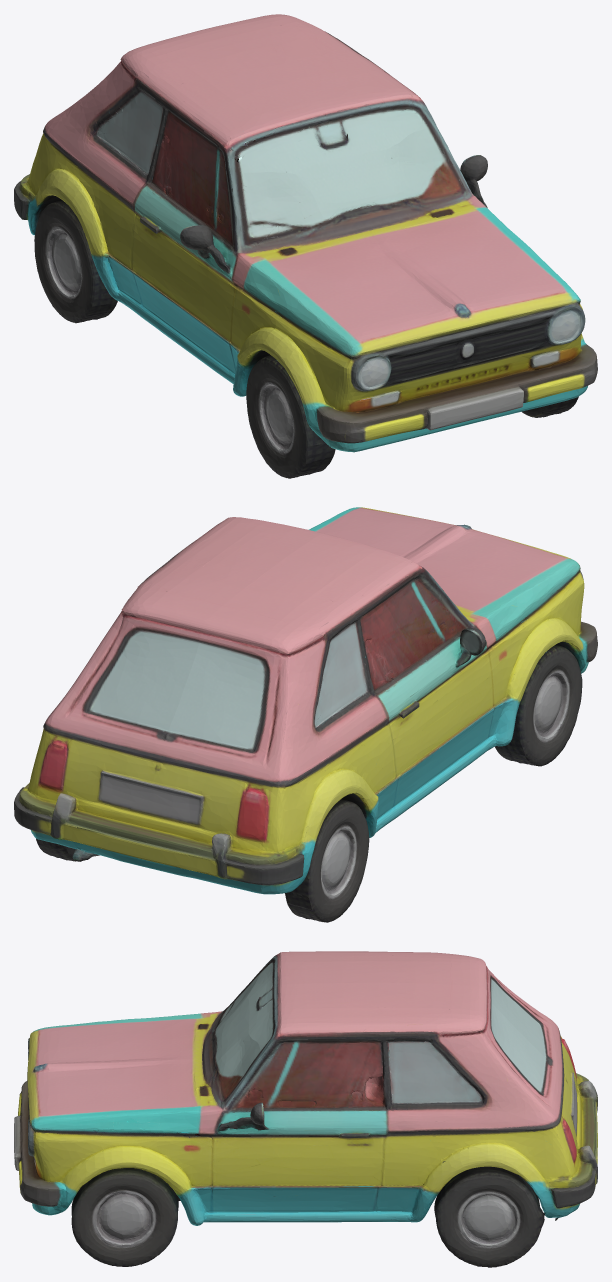
The model's file is AUTKO.glb.
The picture shows the model from 3 angles, top to bottom: view 1: azimuth 30°, elevation 25°; view 2: azimuth 150°, elevation 25°; view 3: azimuth 270°, elevation 25°; orthographic projection. The views are drawn at different scales.
Parts seen in each view (by area): view 1: world; view 2: world; view 3: world.
Boxes of the visible parts, box(x1,y1,x2,y2) form: world: box(14, 14, 597, 478); world: box(14, 507, 597, 922); world: box(14, 951, 597, 1267).
Size of the model in its own units: 0.5152 by 0.4316 by 0.9996.
Materials: 1 (1 with a texture image).
